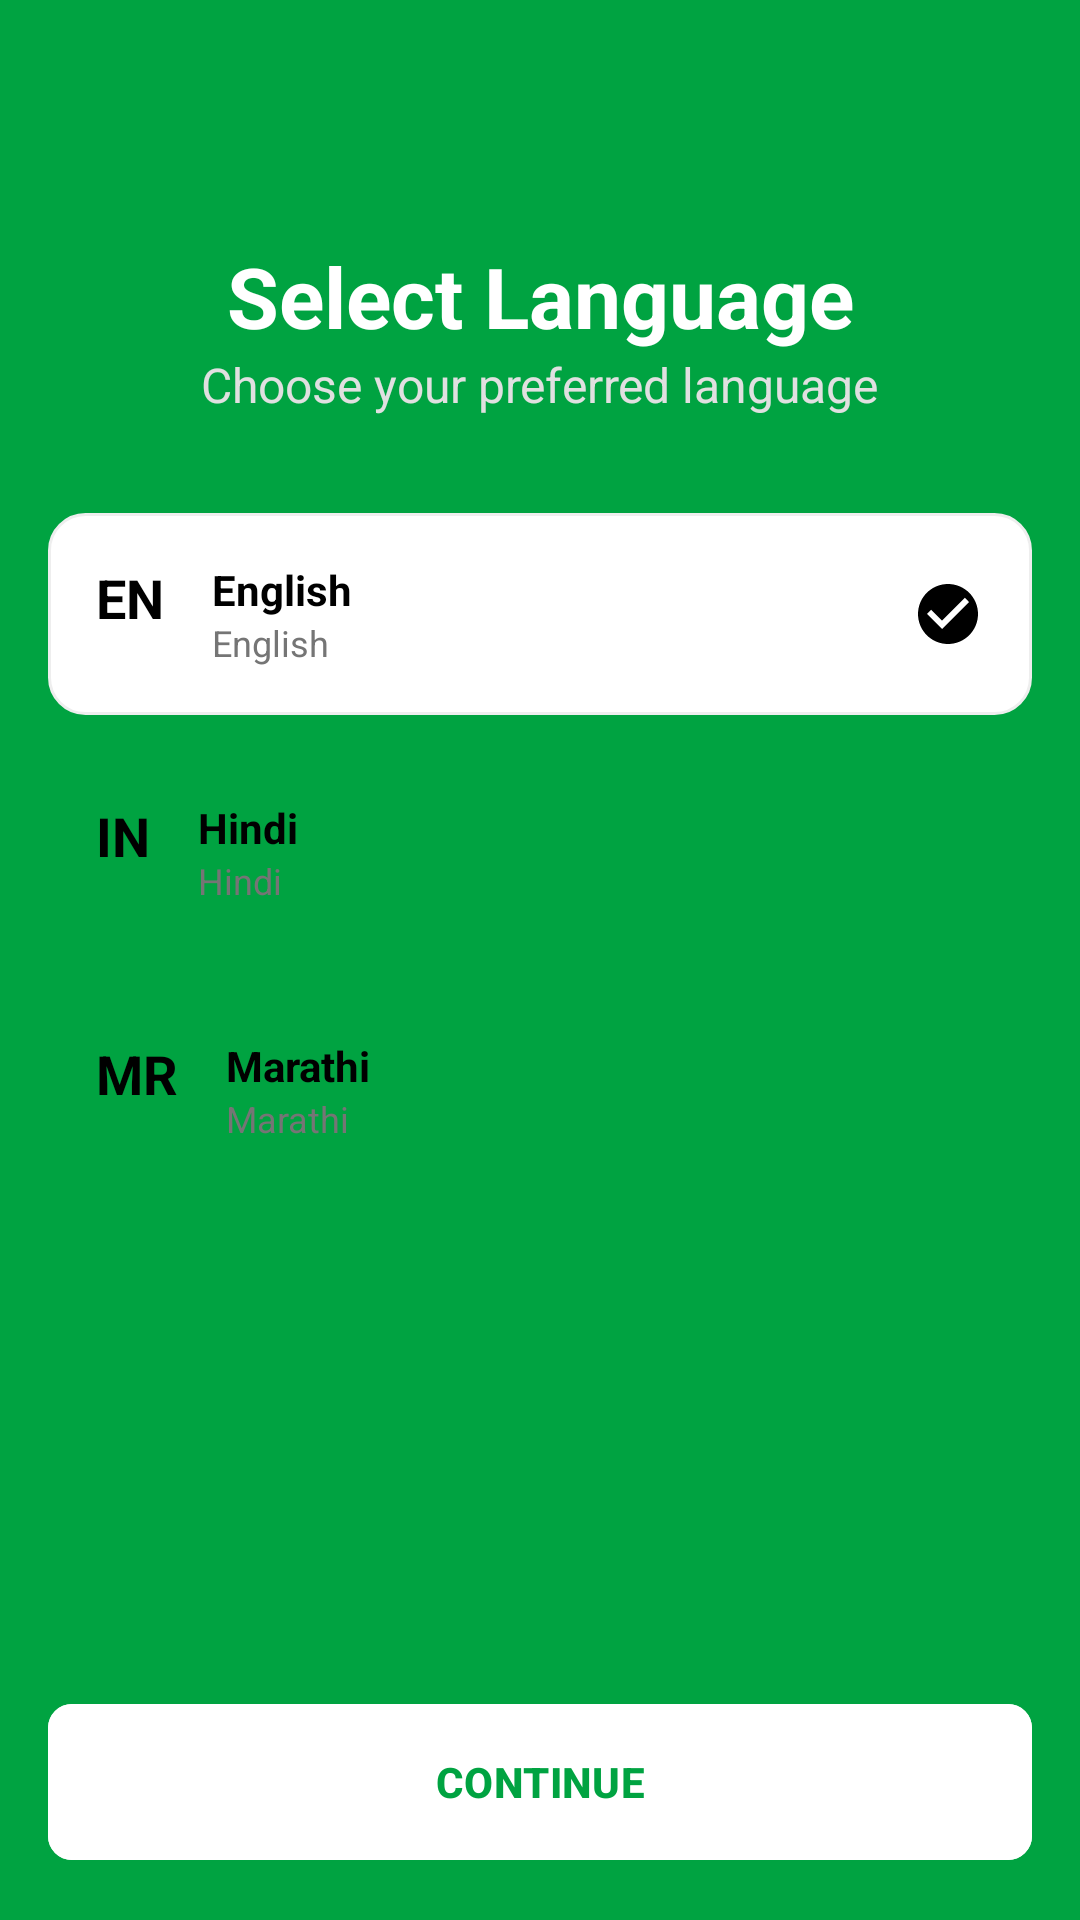

Icon click points for this 1080×1920 phone screenshot, format [x,y]:
check circle: [948,614]
